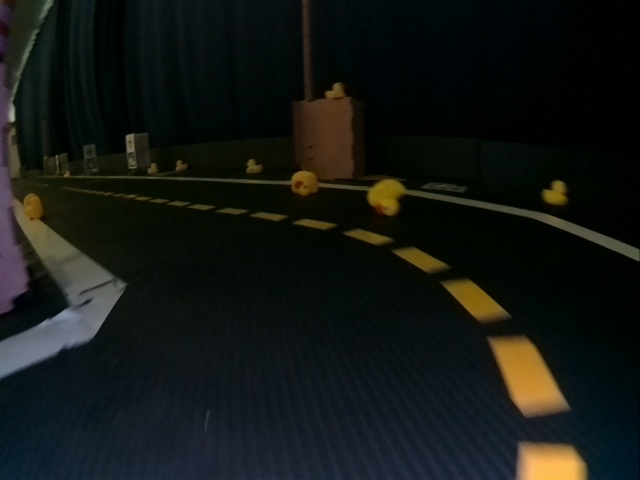Duckie: (369, 180, 402, 213), (291, 171, 318, 193), (543, 181, 567, 203), (24, 194, 43, 220), (326, 83, 344, 97), (245, 159, 261, 173), (175, 160, 185, 169), (148, 164, 157, 173)
Intersection sign: (126, 137, 135, 146)
QR code: (127, 155, 136, 168), (85, 159, 95, 169)
